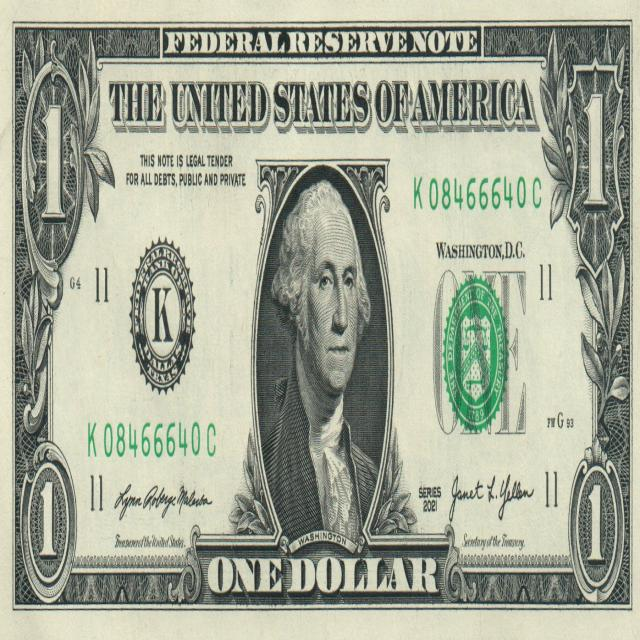SerialNumber: (88, 422, 215, 457), (414, 177, 541, 210)
